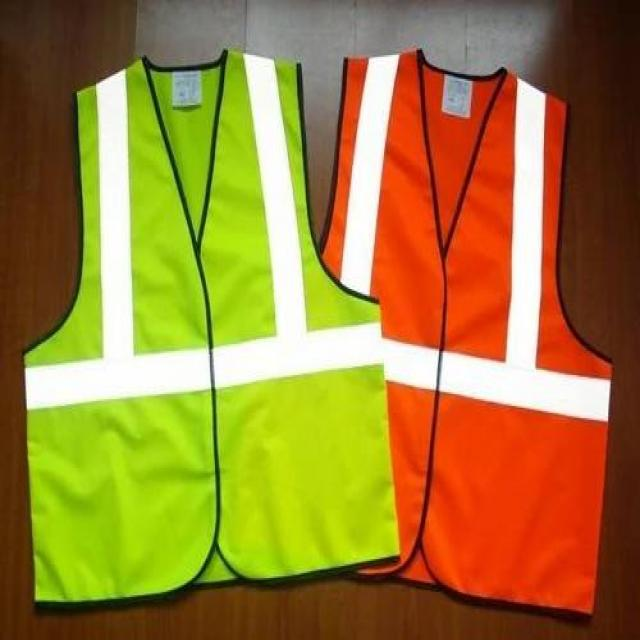Reflective-Jacket: (19, 51, 403, 611), (305, 43, 627, 611)
